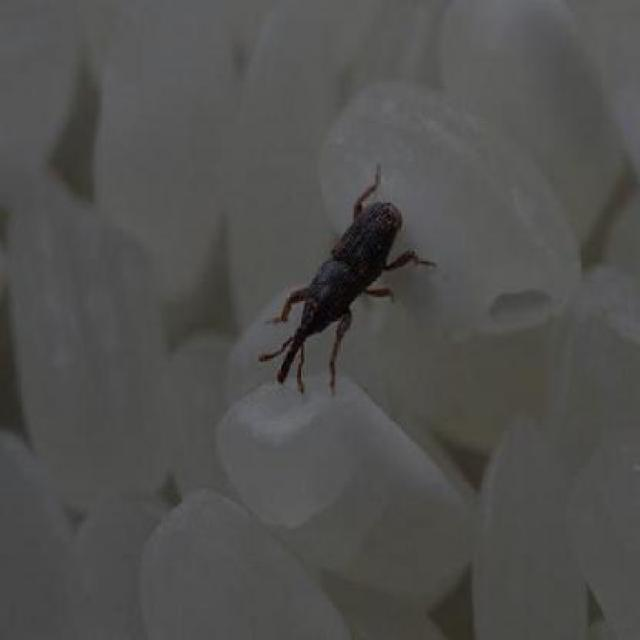rice-bug: (263, 175, 423, 398)
